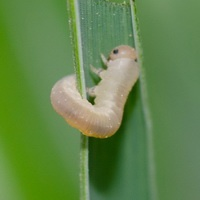insect: (51, 45, 138, 137)
